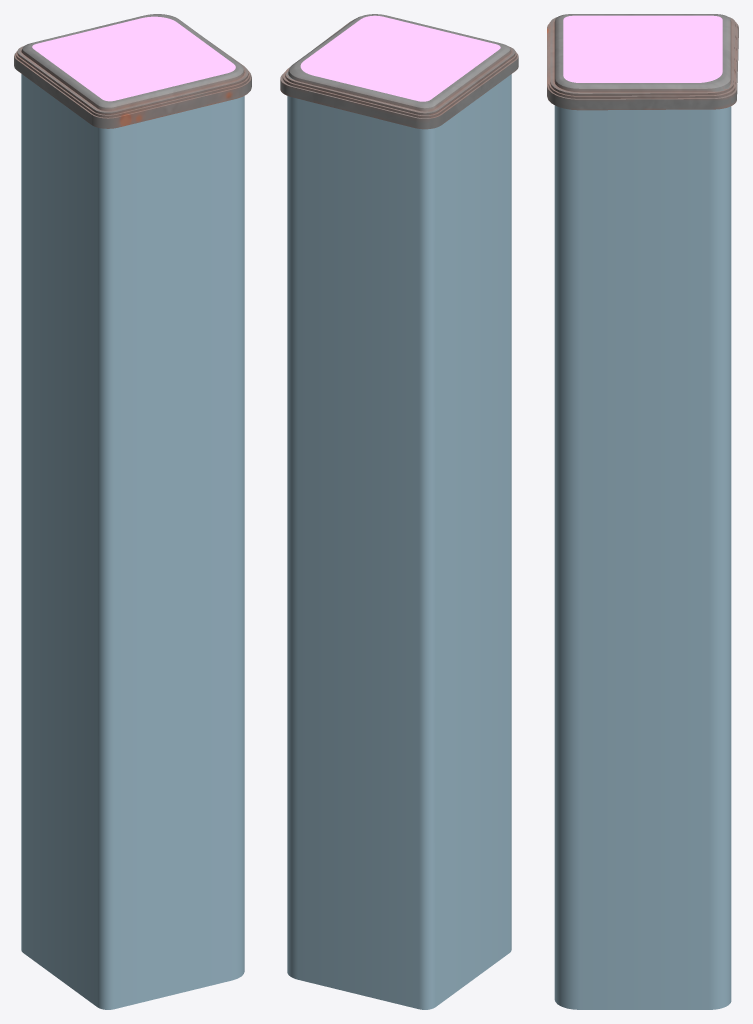
3 views of the same model, side by side, from view 1: azimuth 30°, elevation 25°; view 2: azimuth 150°, elevation 25°; view 3: azimuth 270°, elevation 25° (orthographic). The views are drawn at different scales.
Parts seen in each view (by area): view 1: Cube.005; view 2: Cube.005; view 3: Cube.005.
Boxes of the visible parts, x1,y1,x2,y2 form: Cube.005: (14,14,251,1009); Cube.005: (280,14,518,1009); Cube.005: (547,14,738,1009).
Size of the model in its own units: 2.17 by 11.51 by 2.17.
Materials: 3 (1 with a texture image).
